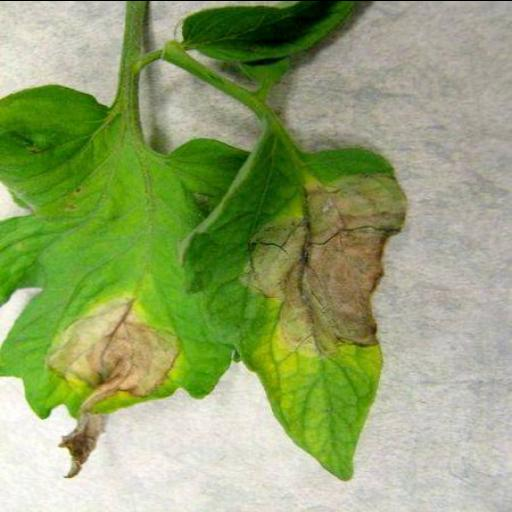disease_tomato: (0, 85, 231, 477), (174, 145, 408, 483)
